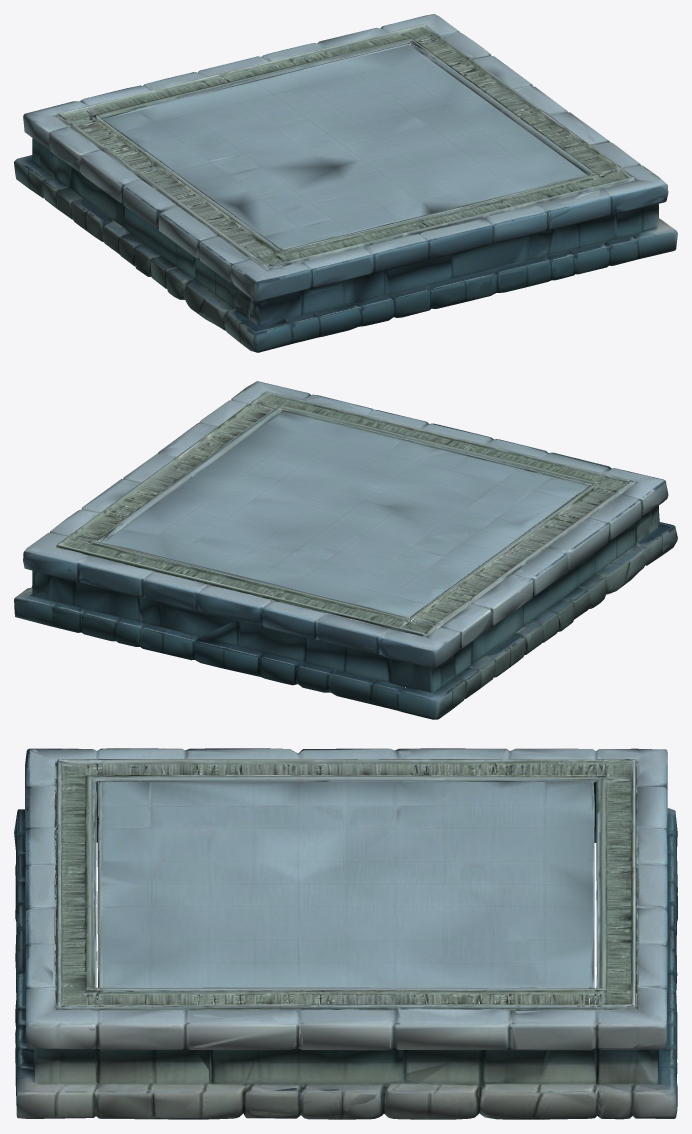
Rendered from gardenBase.glb.
The picture shows the model from 3 angles, top to bottom: view 1: azimuth 30°, elevation 25°; view 2: azimuth 150°, elevation 25°; view 3: azimuth 270°, elevation 25°; orthographic projection. The views are drawn at different scales.
Visible parts, largest first — view 1: node_0; view 2: node_0; view 3: node_0.
Boxes of the visible parts, left/top/right/bottom form: node_0: left=14, top=14, right=677, bottom=352; node_0: left=14, top=381, right=677, bottom=719; node_0: left=14, top=748, right=677, bottom=1119.
Size of the model in its own units: 8.49 by 1.33 by 8.32.
1 material, 1 textured.
